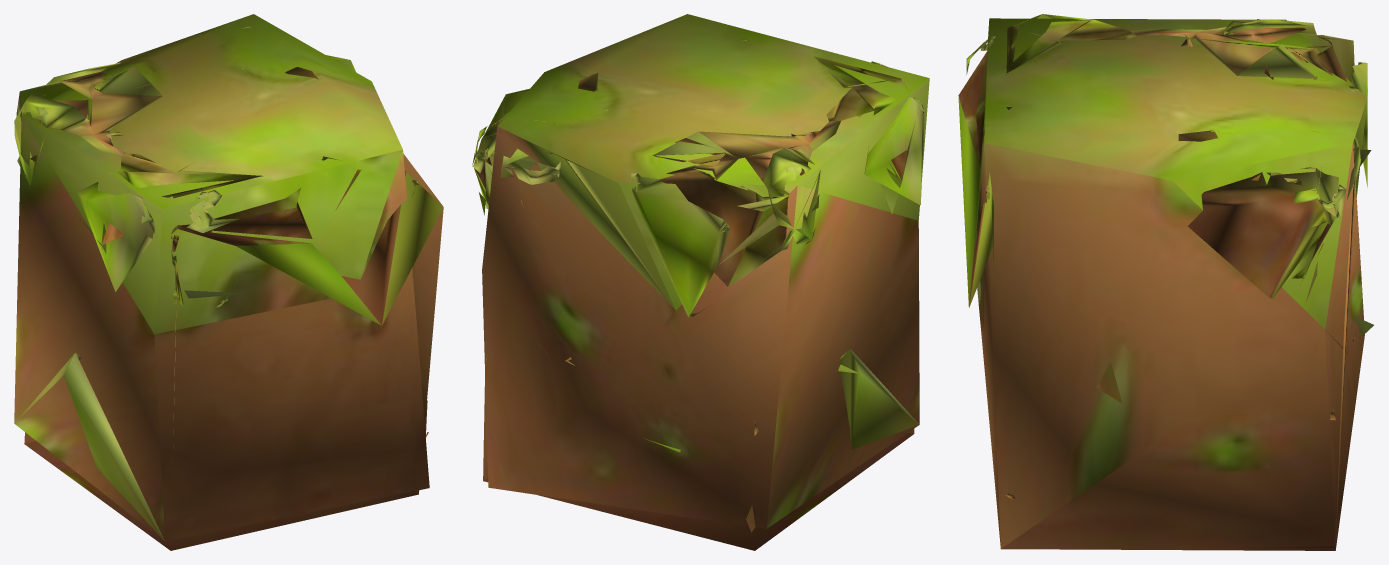
Rendered from sz-boulder-b.glb.
3 views of the same model, side by side, from view 1: azimuth 30°, elevation 25°; view 2: azimuth 150°, elevation 25°; view 3: azimuth 270°, elevation 25° (orthographic). The views are drawn at different scales.
Visible parts, largest first — view 1: geometry_0; view 2: geometry_0; view 3: geometry_0.
Part boxes in pixels (<box>): geometry_0: <box>14,14,443,550</box>; geometry_0: <box>472,14,929,550</box>; geometry_0: <box>958,14,1373,550</box>.
Bounding box in the file's own units: 0.9301 × 1 × 0.9376.
Materials: 1 (1 with a texture image).
